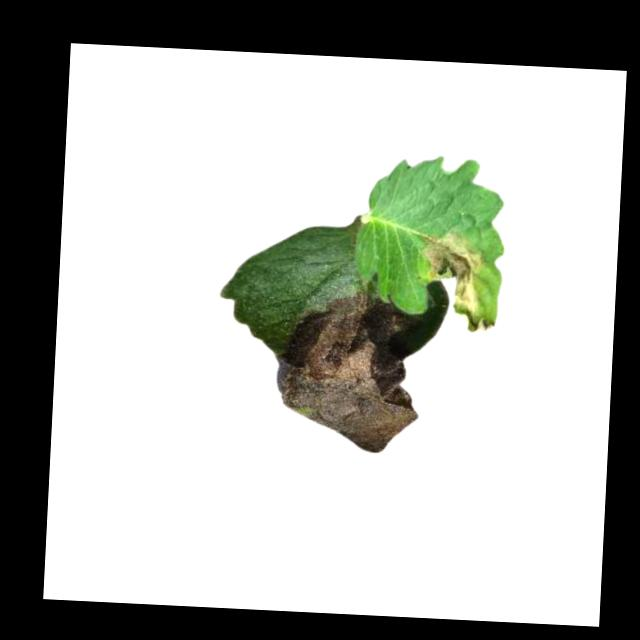Late_blight: (270, 293, 434, 457), (414, 231, 501, 336)
